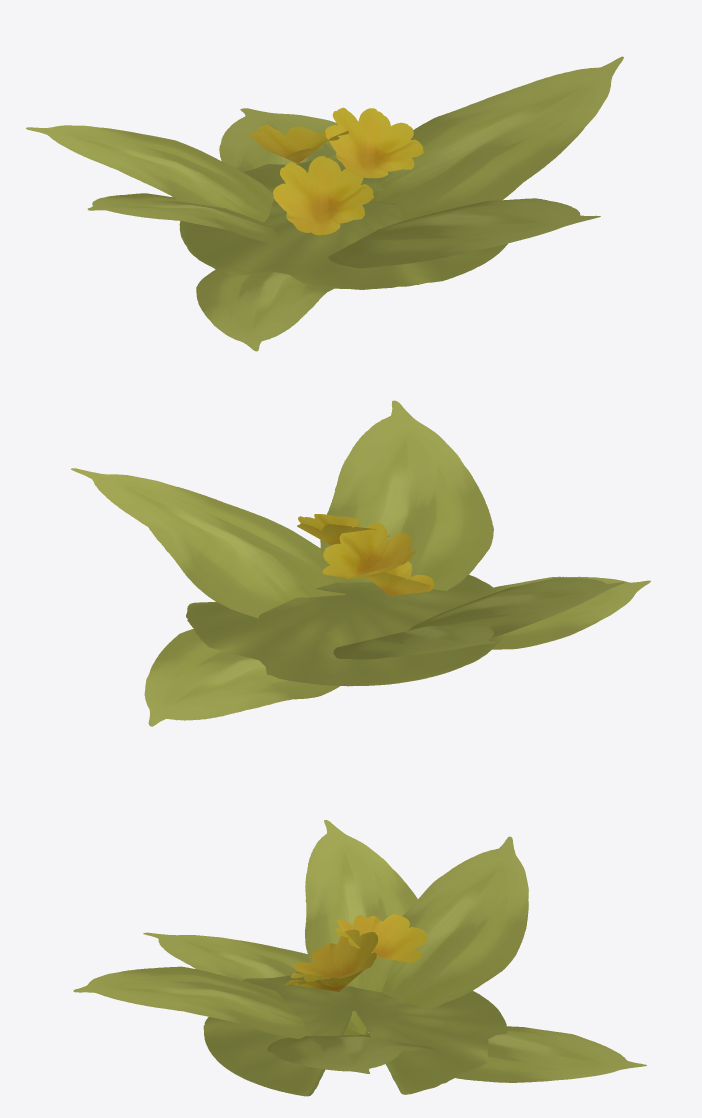
File: plant_Green.fbx
3 views of the same model, one above another, from view 1: azimuth 30°, elevation 25°; view 2: azimuth 150°, elevation 25°; view 3: azimuth 270°, elevation 25° (orthographic). The views are drawn at different scales.
Parts seen in each view (by area): view 1: pPlane36, pPlane9; view 2: pPlane36, pPlane9; view 3: pPlane36, pPlane9.
Boxes of the visible parts, x1=… form: pPlane36: x1=26, y1=56, x2=623, y2=351; pPlane9: x1=179, y1=155, x2=507, y2=289; pPlane36: x1=71, y1=400, x2=650, y2=726; pPlane9: x1=186, y1=575, x2=503, y2=686; pPlane36: x1=73, y1=820, x2=646, y2=1082; pPlane9: x1=203, y1=971, x2=507, y2=1096.
Size of the model in its own units: 34.6 by 8 by 37.14.
